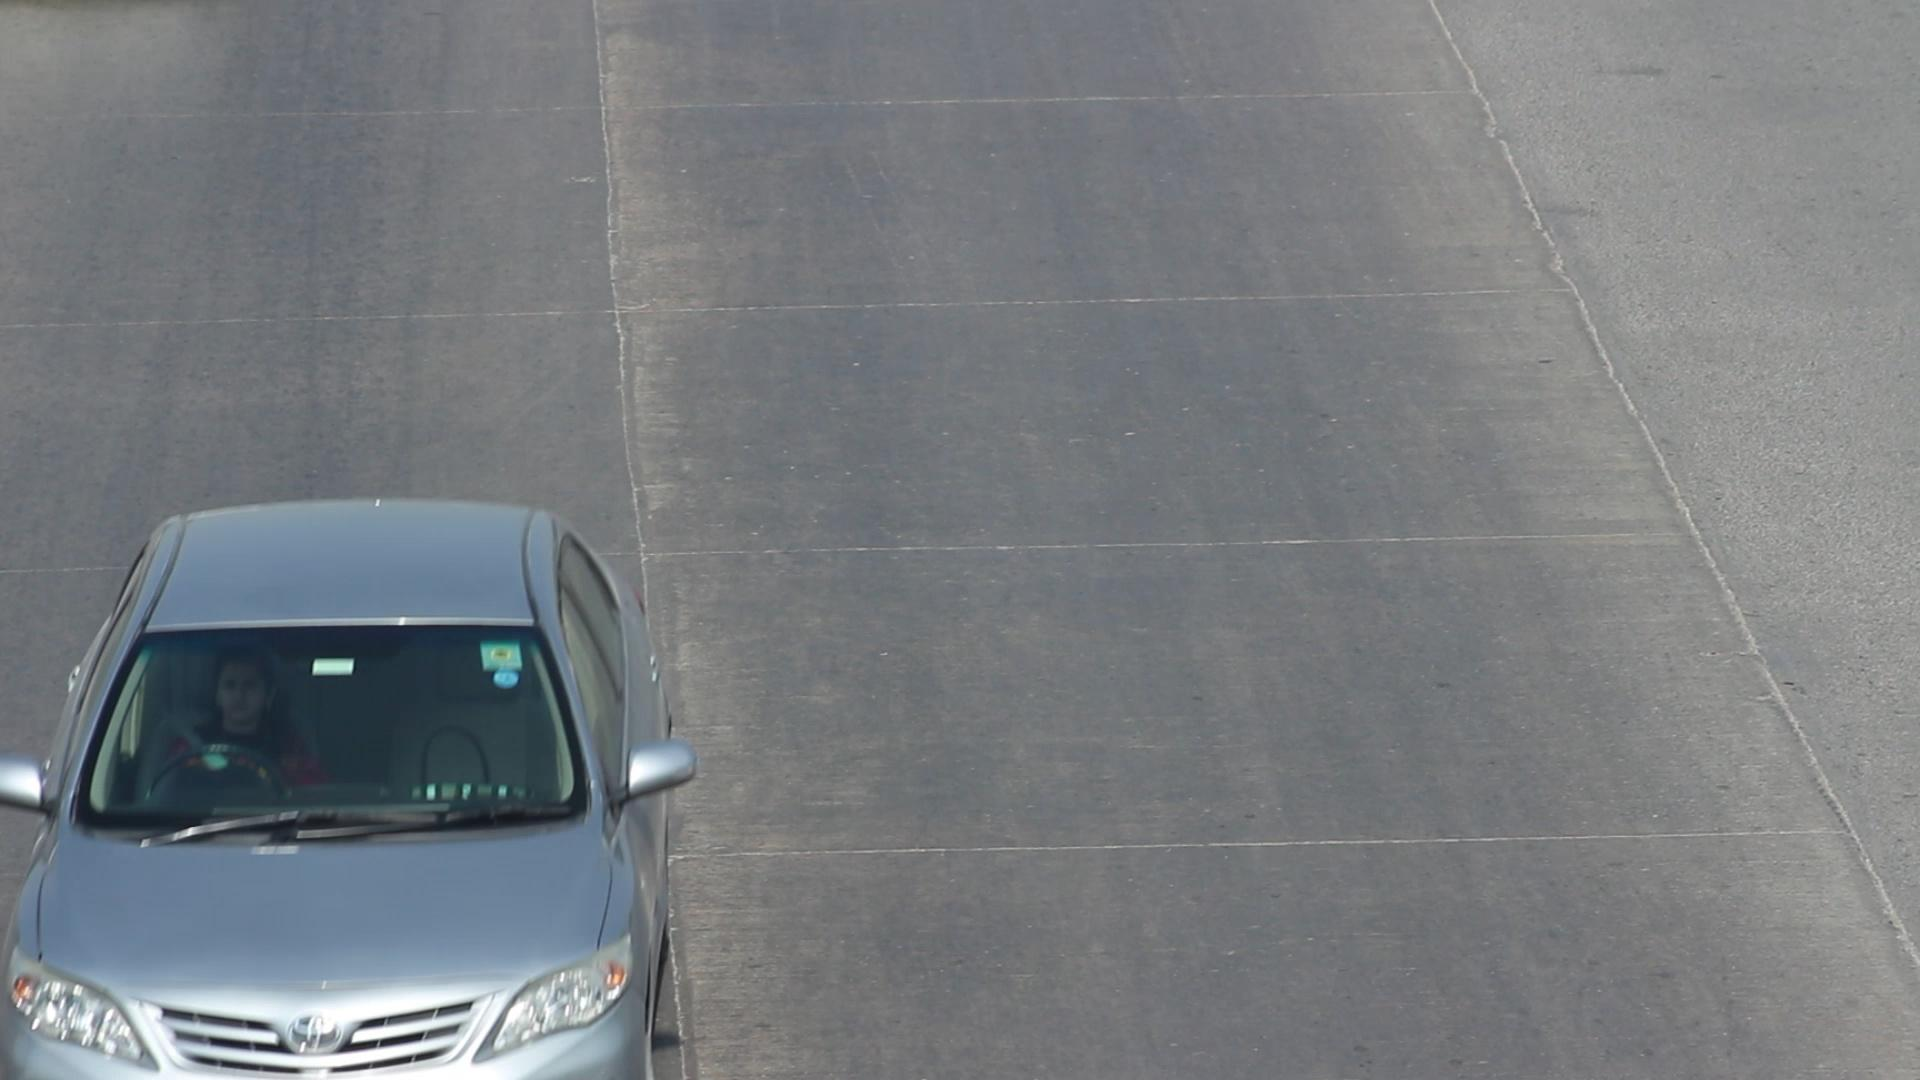windshield: (51, 587, 604, 836)
